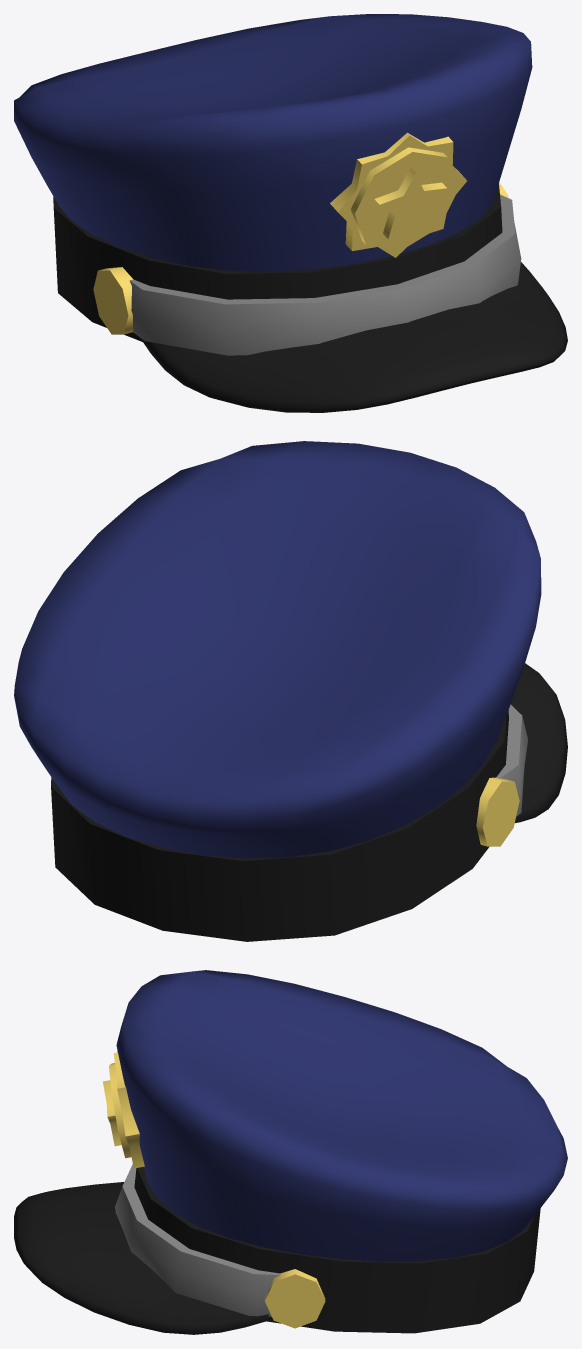
Rendered from 6警帽Alt.fbx.
The picture shows the model from 3 angles, top to bottom: view 1: azimuth 30°, elevation 25°; view 2: azimuth 150°, elevation 25°; view 3: azimuth 270°, elevation 25°; orthographic projection. The views are drawn at different scales.
Visible parts, largest first — view 1: 6警帽Alt; view 2: 6警帽Alt; view 3: 6警帽Alt.
Boxes of the visible parts, x1,y1,x2,y2 form: 6警帽Alt: (14, 14, 567, 412); 6警帽Alt: (14, 441, 567, 941); 6警帽Alt: (14, 970, 567, 1334).
Bounding box in the file's own units: 0.4589 × 0.2973 × 0.5998.
